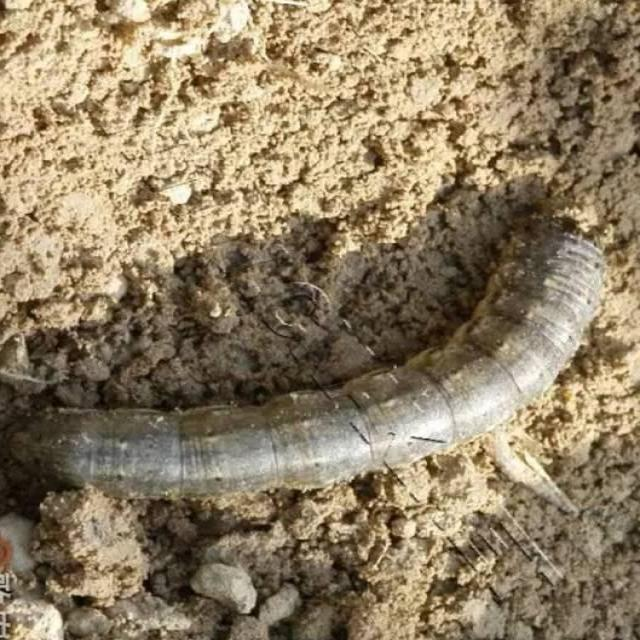black cutworm: (17, 224, 604, 535)
